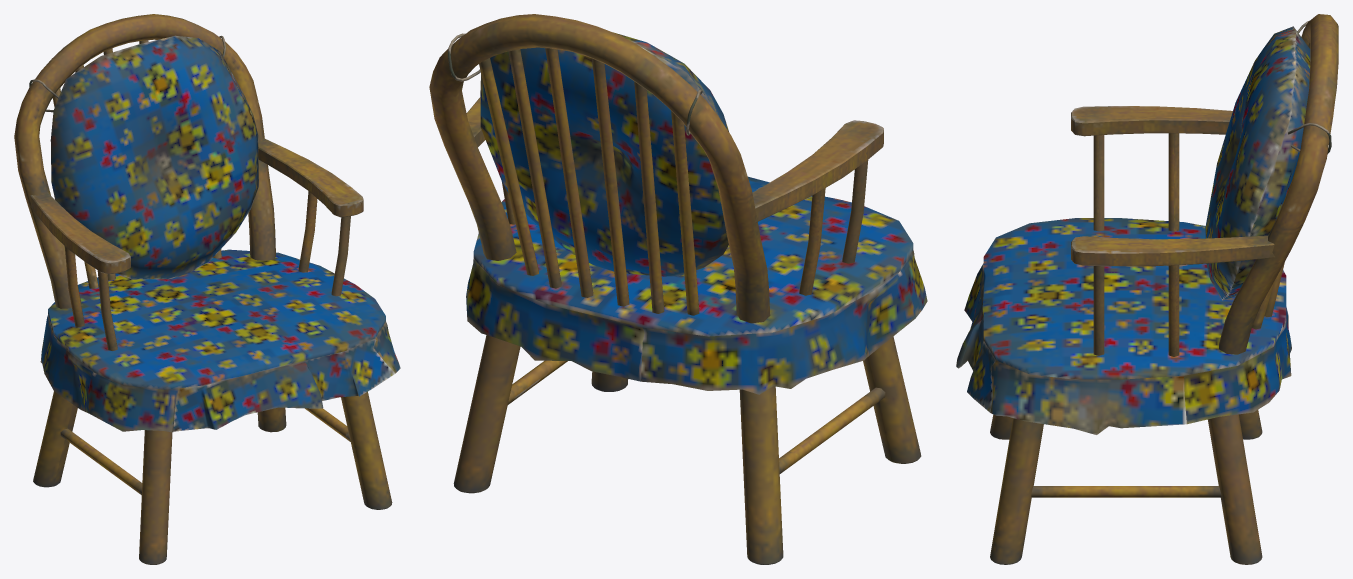
Rendered from 221_ChildrenChair.fbx.
3 renders of one model, left to right at view 1: azimuth 30°, elevation 25°; view 2: azimuth 150°, elevation 25°; view 3: azimuth 270°, elevation 25°, orthographic. The views are drawn at different scales.
Parts seen in each view (by area): view 1: LOD_1_Group_0_Sub_1__sm30_221_ChildrenChair01A_A_Mat__Env_De; view 2: LOD_1_Group_0_Sub_1__sm30_221_ChildrenChair01A_A_Mat__Env_De; view 3: LOD_1_Group_0_Sub_1__sm30_221_ChildrenChair01A_A_Mat__Env_De.
Part boxes in pixels (box(x1,y1,x2,y2)): LOD_1_Group_0_Sub_1__sm30_221_ChildrenChair01A_A_Mat__Env_De: box(14, 14, 400, 564); LOD_1_Group_0_Sub_1__sm30_221_ChildrenChair01A_A_Mat__Env_De: box(429, 14, 927, 564); LOD_1_Group_0_Sub_1__sm30_221_ChildrenChair01A_A_Mat__Env_De: box(956, 14, 1338, 564).
Size of the model in its own units: 0.6399 by 0.8253 by 0.6151.
